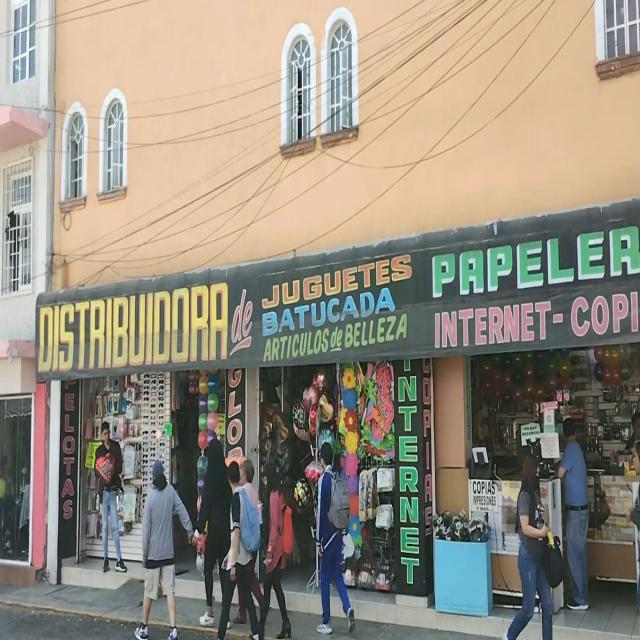adult: (134, 460, 193, 640), (509, 455, 555, 640), (314, 440, 356, 634), (214, 455, 258, 640), (555, 418, 593, 610), (196, 436, 234, 625), (256, 463, 290, 640), (92, 418, 128, 575)
